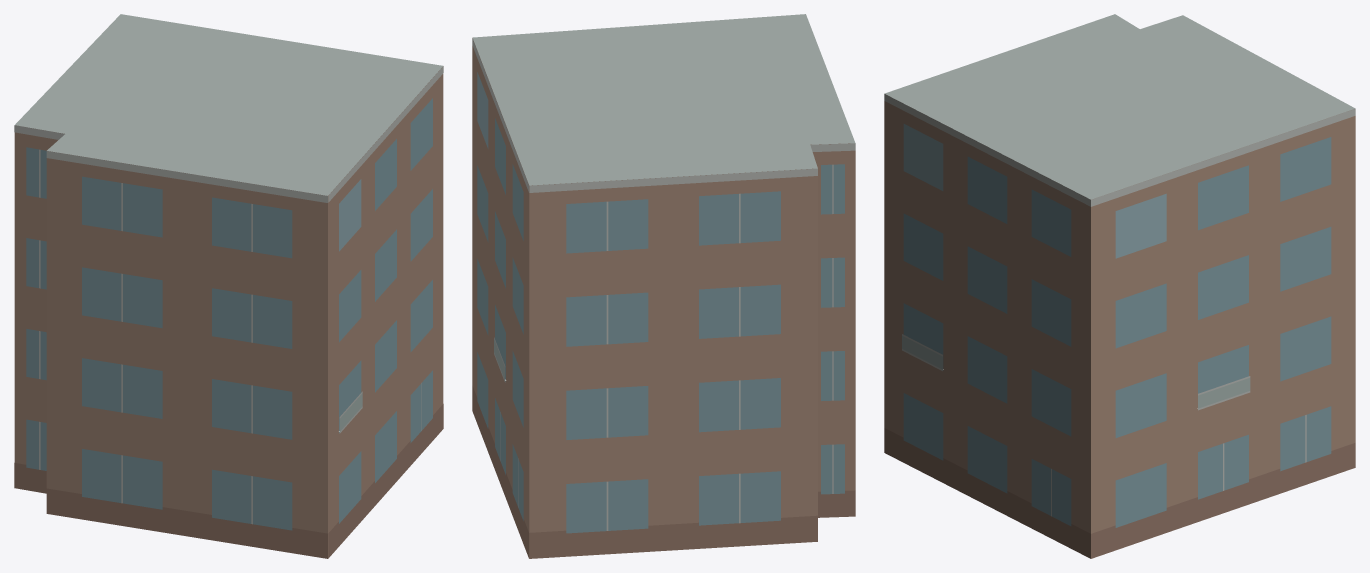
Rendered from survey-upis-32844856.glb.
The picture shows the model from 3 angles, left to right: view 1: azimuth 30°, elevation 25°; view 2: azimuth 150°, elevation 25°; view 3: azimuth 270°, elevation 25°; orthographic projection. The views are drawn at different scales.
Visible parts, largest first — view 1: survey-upis-32844856.tmp; view 2: survey-upis-32844856.tmp; view 3: survey-upis-32844856.tmp.
Part boxes in pixels (<box>): survey-upis-32844856.tmp: <box>14,14,443,558</box>; survey-upis-32844856.tmp: <box>472,14,855,558</box>; survey-upis-32844856.tmp: <box>884,14,1355,558</box>.
Bounding box in the file's own units: 13.54 × 12.2 × 14.52.
